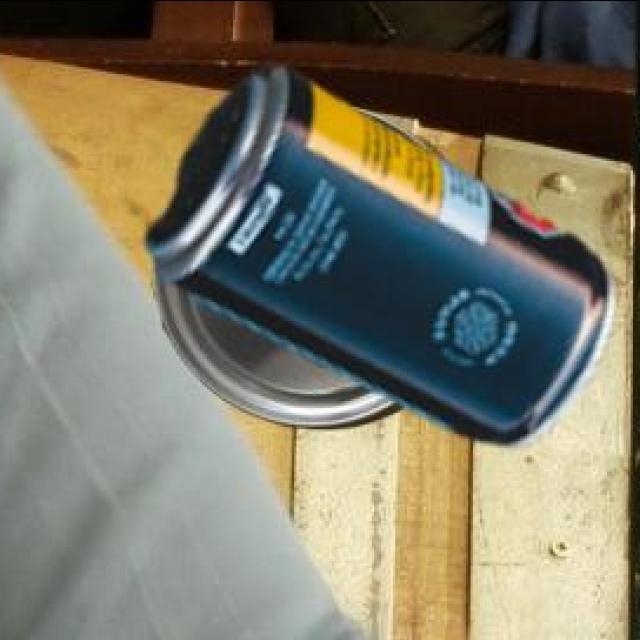logam: (152, 62, 618, 444), (156, 105, 448, 425)
